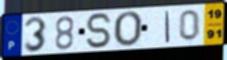0: (178, 8, 203, 43)
3: (24, 16, 49, 54)
8: (55, 15, 75, 51)
I: (164, 10, 171, 44)
O: (112, 10, 144, 49)
S: (84, 12, 114, 50)
